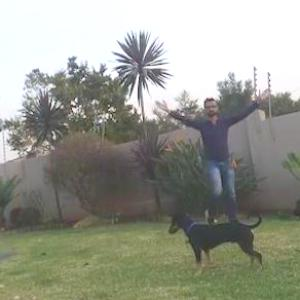takeoff: (146, 91, 258, 221)
